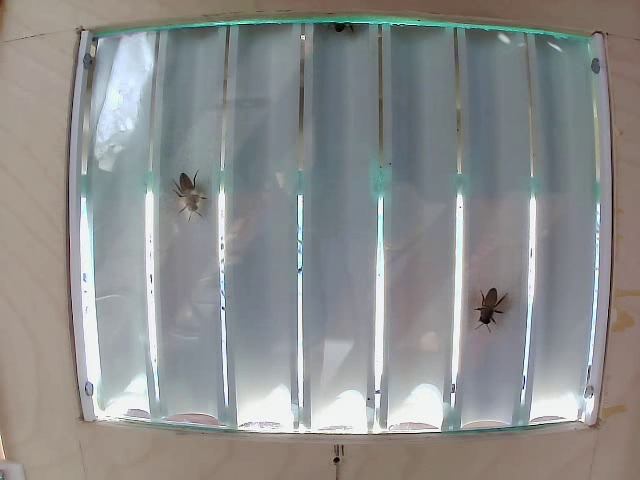bee: (166, 171, 211, 217), (478, 273, 507, 328)
